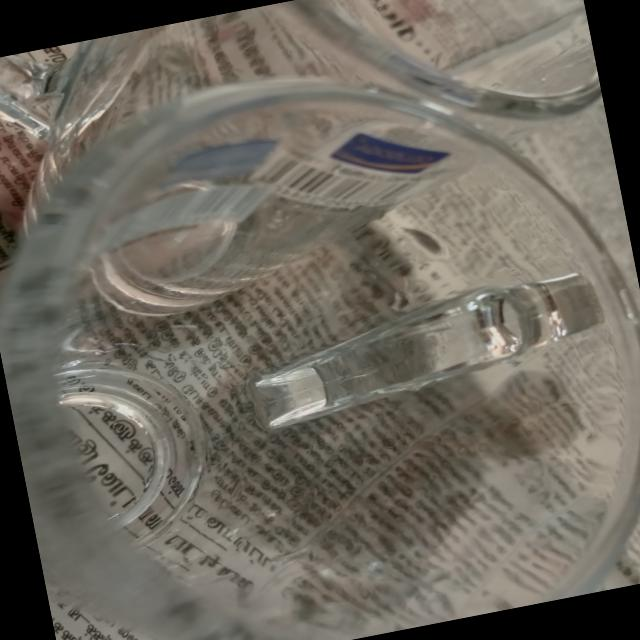glass-VX4N: (0, 7, 640, 640), (0, 0, 628, 350)
